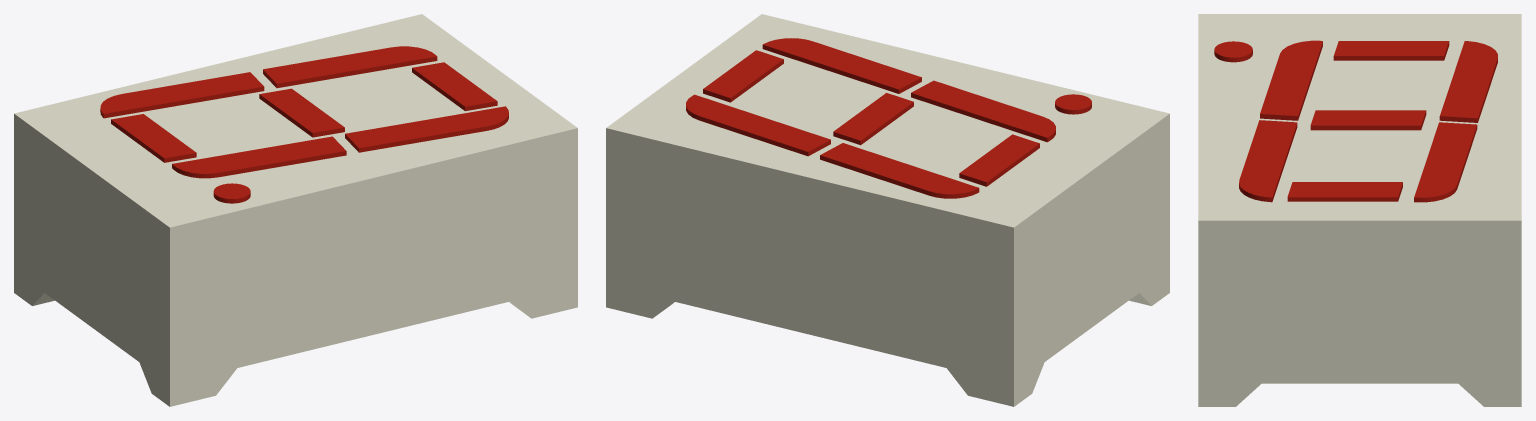
The model's file is seg056.glb.
3 renders of one model, left to right at view 1: azimuth 30°, elevation 25°; view 2: azimuth 150°, elevation 25°; view 3: azimuth 270°, elevation 25°, orthographic. The views are drawn at different scales.
Visible parts, largest first — view 1: REF**; view 2: REF**; view 3: REF**.
Boxes of the visible parts, <box> form: REF**: <box>14,14,577,406</box>; REF**: <box>606,14,1169,406</box>; REF**: <box>1198,14,1521,406</box>.
Bounding box in the file's own units: 19.05 × 8.2 × 12.6.
